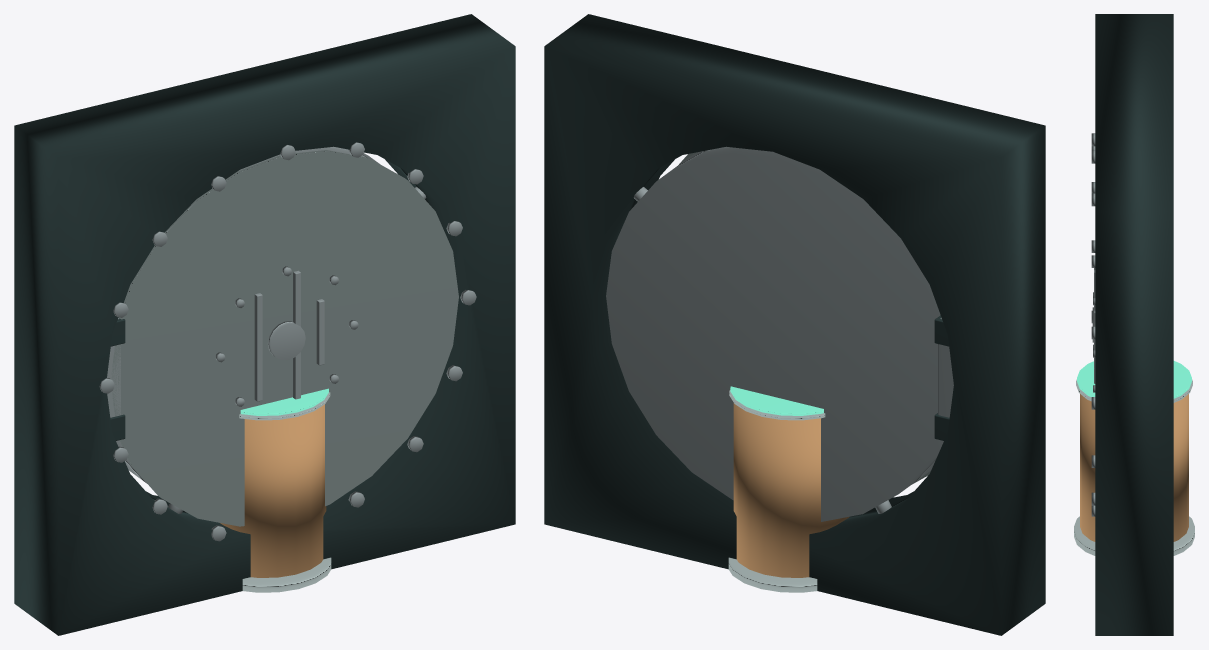
The model's file is vault-kit.glb.
3 views of the same model, side by side, from view 1: azimuth 30°, elevation 25°; view 2: azimuth 150°, elevation 25°; view 3: azimuth 270°, elevation 25° (orthographic). The views are drawn at different scales.
Parts seen in each view (by area): view 1: VaultFrame_KitAtlas, VaultDoor_KitAtlas, VaultPedestal_KitAtlas, VaultPedestal_KitEmissive; view 2: VaultFrame_KitAtlas, VaultDoor_KitAtlas, VaultPedestal_KitAtlas, VaultPedestal_KitEmissive; view 3: VaultFrame_KitAtlas, VaultPedestal_KitAtlas, VaultPedestal_KitEmissive, VaultDoor_KitAtlas.
Boxes of the visible parts, bbox=[...] form: VaultFrame_KitAtlas: bbox=[14, 14, 515, 635]; VaultDoor_KitAtlas: bbox=[107, 146, 458, 526]; VaultPedestal_KitAtlas: bbox=[220, 392, 331, 592]; VaultPedestal_KitEmissive: bbox=[240, 388, 328, 415]; VaultFrame_KitAtlas: bbox=[544, 14, 1045, 635]; VaultDoor_KitAtlas: bbox=[606, 146, 953, 521]; VaultPedestal_KitAtlas: bbox=[728, 390, 849, 592]; VaultPedestal_KitEmissive: bbox=[730, 386, 823, 415]; VaultFrame_KitAtlas: bbox=[1091, 14, 1173, 635]; VaultPedestal_KitAtlas: bbox=[1074, 379, 1194, 555]; VaultPedestal_KitEmissive: bbox=[1077, 361, 1191, 398]; VaultDoor_KitAtlas: bbox=[1092, 268, 1095, 392].
Size of the model in its own units: 12 by 12 by 3.1.
3 materials, 2 textured.
